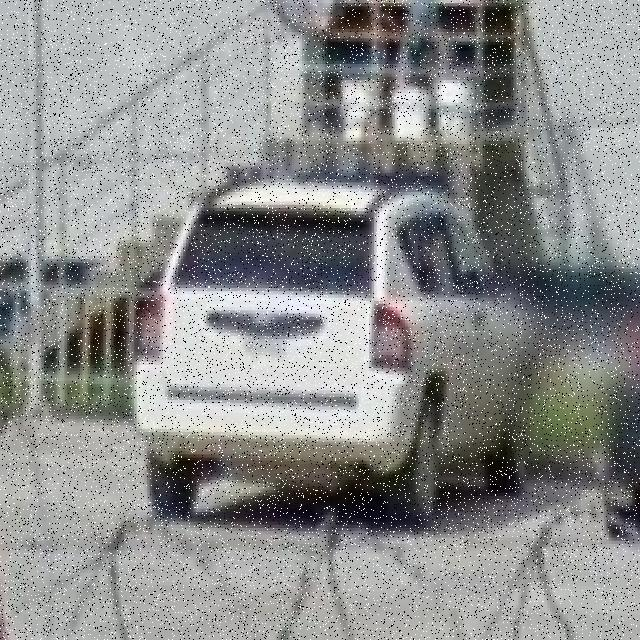cars: (147, 175, 527, 539)
